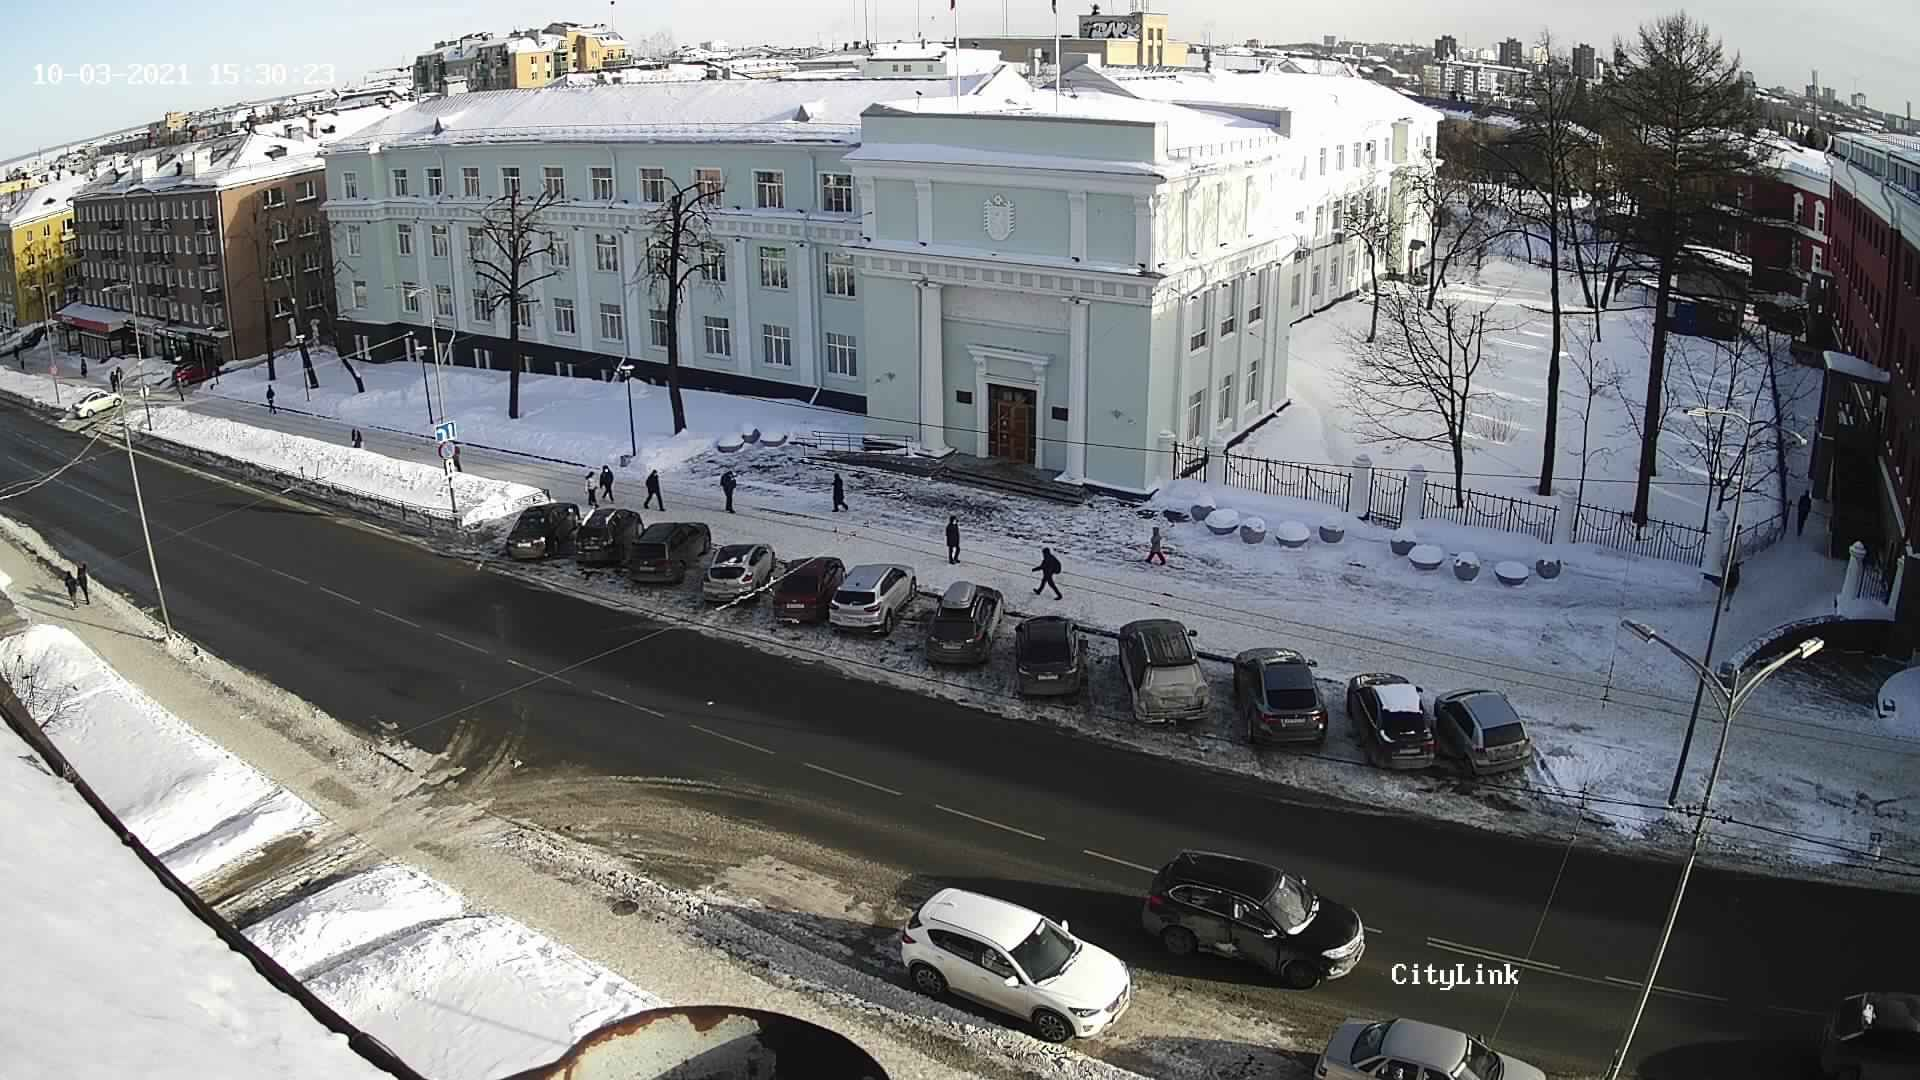car: (1228, 636, 1331, 757), (1116, 617, 1218, 729), (1437, 684, 1545, 783), (1345, 669, 1440, 779), (916, 578, 1009, 669), (815, 560, 919, 638), (1013, 611, 1087, 702), (774, 554, 845, 633), (574, 500, 646, 576), (632, 517, 712, 585), (698, 538, 777, 605), (501, 498, 582, 562)
